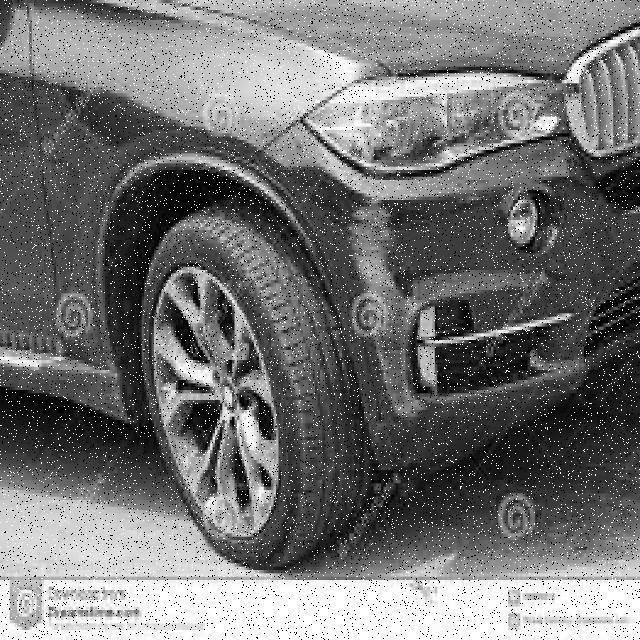front-bumper-dent: (272, 128, 633, 461)
